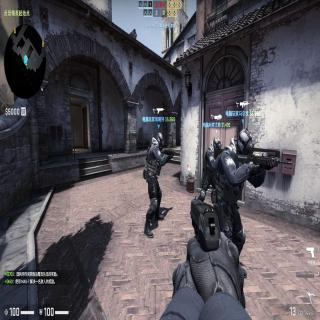CT-Body: (142, 133, 164, 237)
CT-Head: (236, 129, 254, 163), (213, 136, 222, 154), (157, 133, 164, 148)
